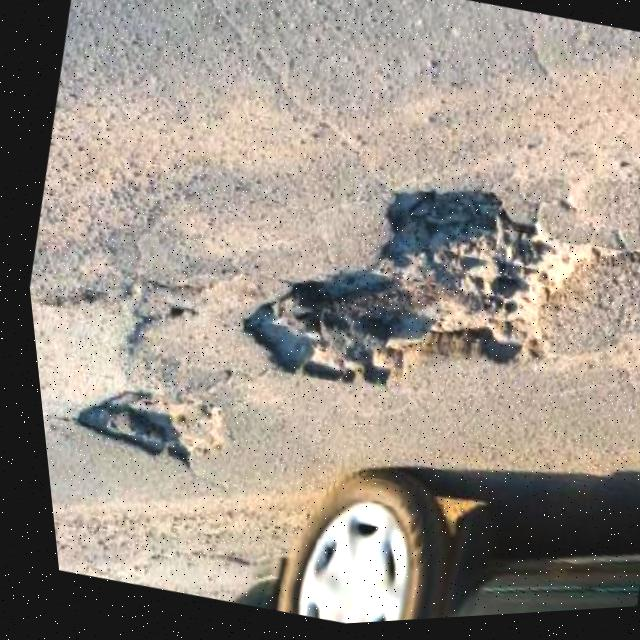Pothole: (204, 137, 609, 457), (49, 370, 225, 487)
